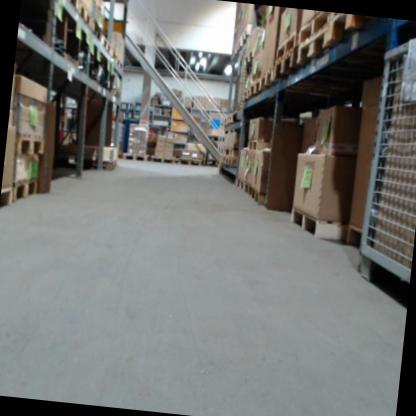pallet: (283, 206, 349, 243), (296, 20, 331, 73), (327, 12, 368, 49), (272, 43, 299, 84), (10, 175, 39, 206), (15, 132, 45, 158), (344, 222, 366, 250), (76, 2, 93, 29), (247, 136, 272, 152), (259, 67, 274, 92), (122, 150, 150, 162), (176, 156, 203, 167), (249, 75, 261, 99), (150, 154, 176, 165), (99, 34, 113, 54), (250, 189, 267, 204), (56, 0, 79, 10), (242, 183, 253, 196), (115, 57, 125, 70), (235, 178, 245, 190)
stillage: (350, 20, 416, 312)
